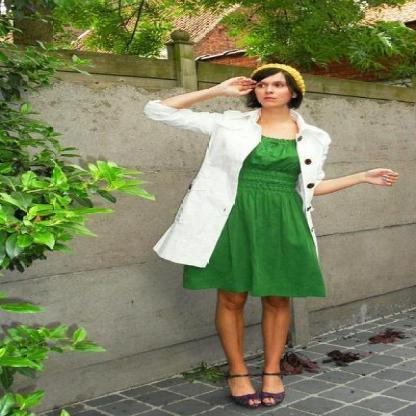dress: (182, 135, 324, 300)
jacket: (144, 100, 330, 267)
shoe: (225, 384, 284, 411)
